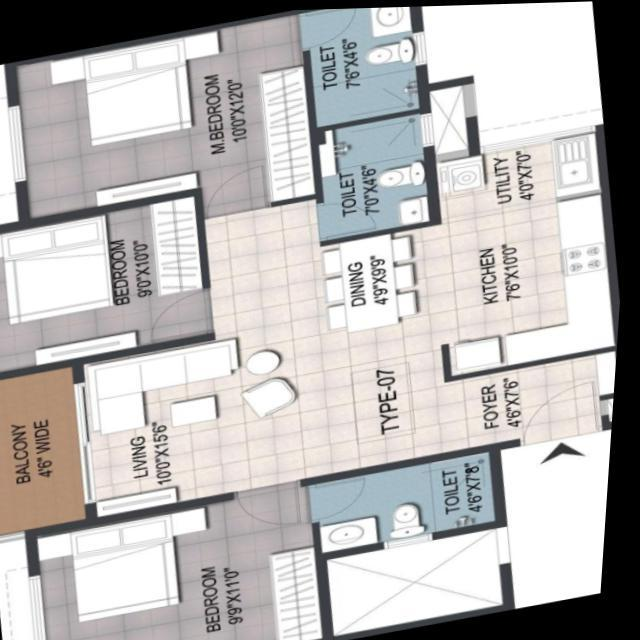Balcony-Sitout: (0, 355, 105, 538)
Bedroom: (28, 477, 337, 640), (0, 184, 216, 377)
Bedroom with Toilet: (10, 5, 428, 219)
Dining: (320, 222, 437, 344)
Enterance-Foyer: (512, 351, 618, 478)
Kitchen: (427, 137, 569, 349)
Living: (78, 321, 311, 520)
Toilet: (319, 444, 510, 560), (313, 106, 439, 242), (303, 5, 430, 129)
